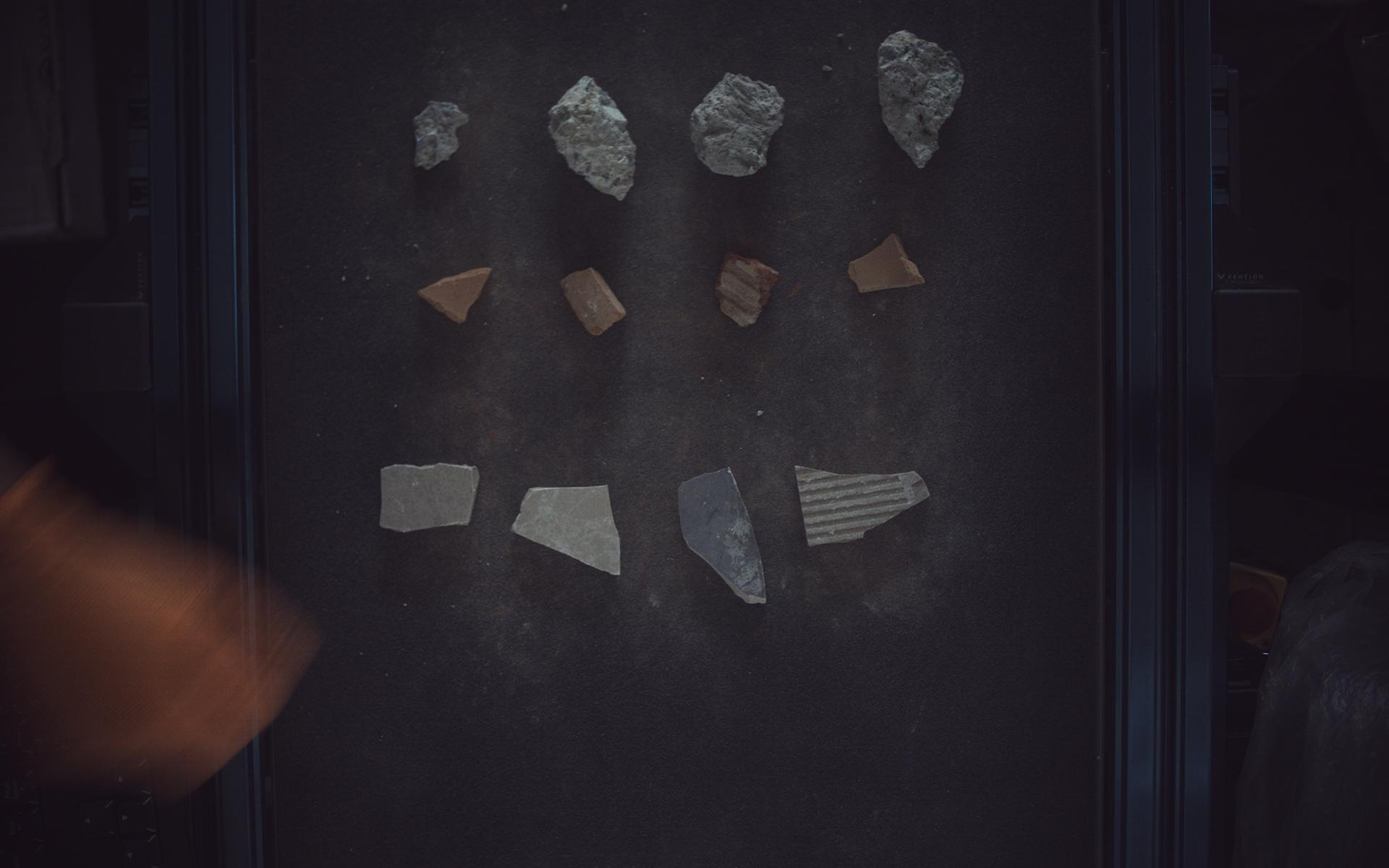brick: (717, 252, 781, 326), (561, 267, 627, 335), (851, 233, 927, 292), (418, 267, 491, 323)
concrete: (880, 29, 966, 167), (550, 75, 636, 200), (691, 72, 786, 176), (414, 100, 468, 169)
tile: (679, 469, 768, 605), (798, 467, 931, 547), (512, 485, 621, 576), (379, 464, 480, 532)
